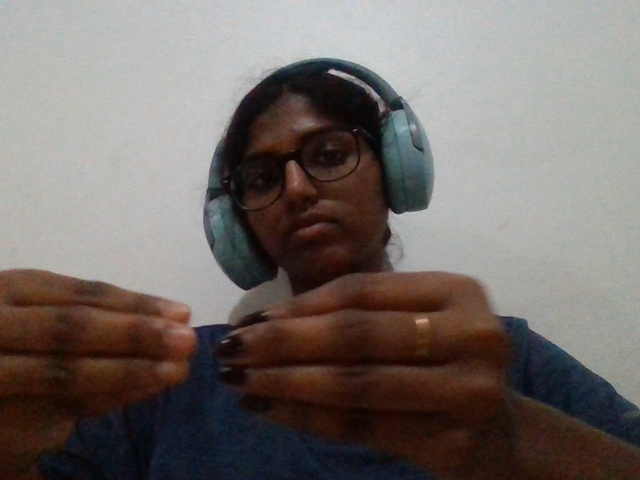More: (2, 251, 544, 480)
